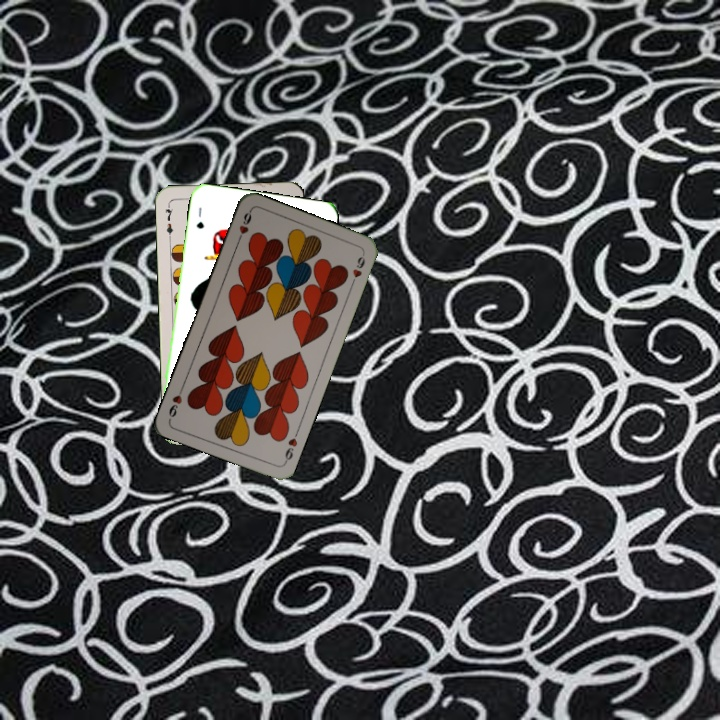E7: (161, 200, 176, 241)
GU: (192, 203, 206, 231)
H9: (233, 207, 254, 246), (280, 427, 301, 466)
